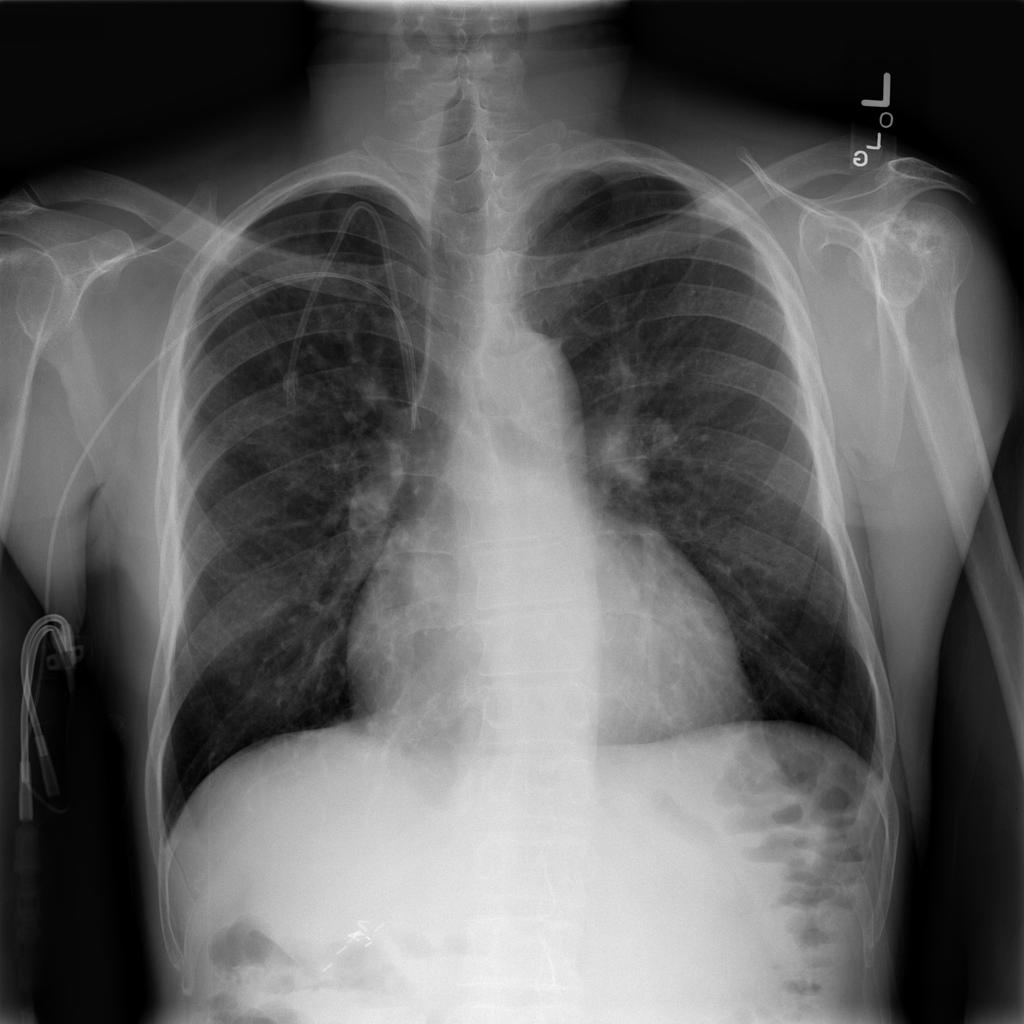Cardiomegaly: (316, 387, 791, 818)
